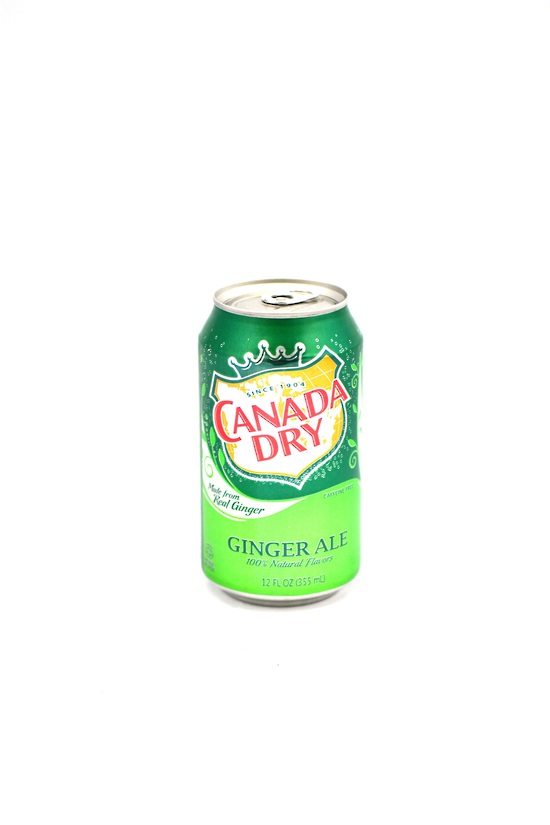Lata: (189, 262, 370, 618)
